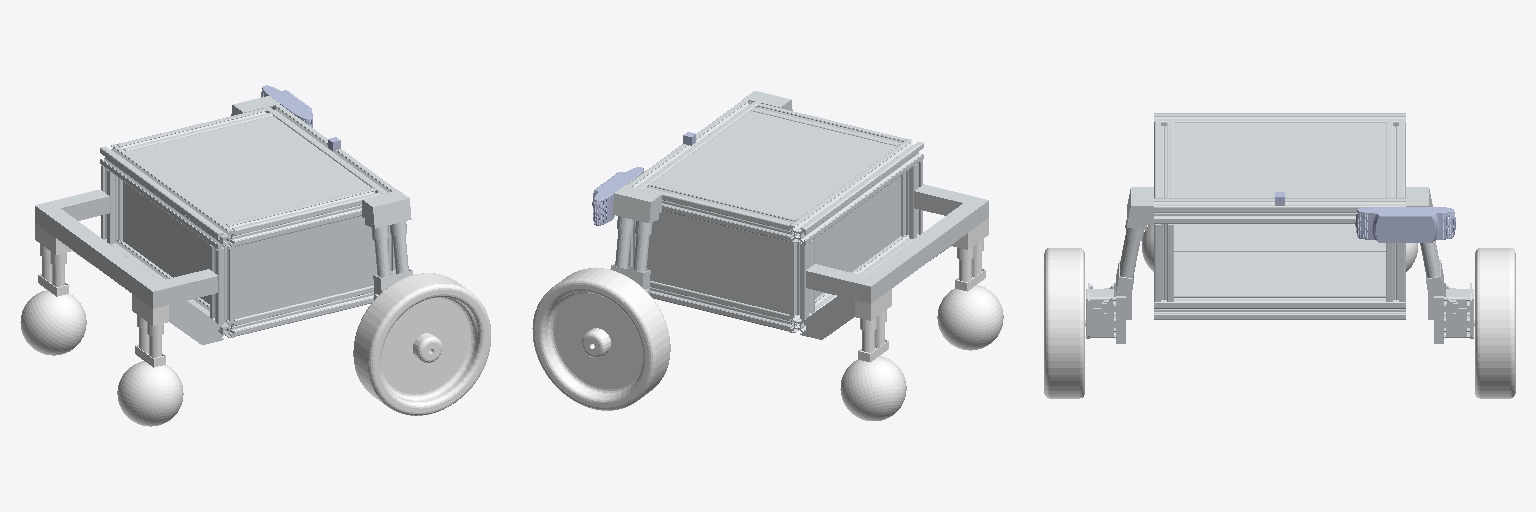
--- What the picture shows (computed from the rendered views, not written in the file) ---
The picture shows the robot from 3 angles, left to right: view 1: azimuth 30°, elevation 25°; view 2: azimuth 150°, elevation 25°; view 3: azimuth 270°, elevation 25°; orthographic projection.
Robot: toy_car2 — 17 links, 16 joints (2 continuous, 4 prismatic, 10 fixed); root link base_link; default pose: all joints at 0.
Visible links, largest first — view 1: base_link, front_right_wheel, rear_left_suspension, rear_right_suspension, front_right, front_right_suspension, rear_right, cam_left, rear_left; view 2: base_link, front_left_wheel, rear_right_suspension, rear_left_suspension, front_left, front_left_suspension, cam_left, rear_left, rear_right; view 3: base_link, front_left_wheel, front_right_wheel, cam_left, front_right_suspension, front_left_suspension, front_right.
Link boxes in pixels (left/top/right/bottom): base_link: left=35, top=104, right=397, bottom=344; front_right_wheel: left=353, top=273, right=490, bottom=415; rear_left_suspension: left=20, top=257, right=86, bottom=355; rear_right_suspension: left=117, top=328, right=183, bottom=426; front_right: left=362, top=190, right=411, bottom=240; front_right_suspension: left=373, top=235, right=413, bottom=299; rear_right: left=132, top=294, right=168, bottom=336; cam_left: left=261, top=85, right=312, bottom=127; rear_left: left=35, top=223, right=71, bottom=265; base_link: left=627, top=99, right=988, bottom=339; front_left_wheel: left=532, top=268, right=670, bottom=410; rear_right_suspension: left=937, top=252, right=1003, bottom=350; rear_left_suspension: left=840, top=323, right=906, bottom=420; front_left: left=612, top=185, right=661, bottom=234; front_left_suspension: left=610, top=229, right=650, bottom=294; cam_left: left=592, top=167, right=643, bottom=225; rear_left: left=855, top=289, right=891, bottom=331; rear_right: left=952, top=218, right=988, bottom=260; base_link: left=1154, top=113, right=1405, bottom=319; front_left_wheel: left=1475, top=248, right=1515, bottom=398; front_right_wheel: left=1044, top=248, right=1084, bottom=398; cam_left: left=1355, top=207, right=1455, bottom=242; front_right_suspension: left=1085, top=237, right=1139, bottom=343; front_left_suspension: left=1420, top=240, right=1474, bottom=343; front_right: left=1125, top=187, right=1153, bottom=241.
Bounding box of the posed robot: 0.3774 × 0.4684 × 0.2236 m (x, y, z).
Meshes: 17 distinct files referenced, 13 mesh visuals loaded (13 binary STL); not drawn: 4 (reference not matched to a file when rendering).

URDF robot description (toy_car2):
<?xml version="1.0" encoding="utf-8"?>
<!-- This URDF was automatically created by SolidWorks to URDF Exporter! Originally created by Stephen Brawner ([email redacted]) 
     Commit Version:   Build Version: 1.5.7444.6699
     For more information, please see http://wiki.ros.org/sw_urdf_exporter -->
<robot
  name="toy_car2">
  <link
    name="base_link">
    <inertial>
      <origin
        xyz="-0.0429725676225381 -0.000267178599244661 0.0471298420442132"
        rpy="0 0 0" />
      <mass
        value="3.81368362259093" />
      <inertia
        ixx="0.0114922800341374"
        ixy="1.2059249165165E-06"
        ixz="-1.88827417940258E-05"
        iyy="0.0038360950287992"
        iyz="2.87540667009997E-07"
        izz="0.0146500038054547" />
    </inertial>
    <visual>
      <origin
        xyz="0 0 0"
        rpy="0 0 0" />
      <geometry>
        <mesh
          filename="package://toy_car/meshes/base_link.STL" />
      </geometry>
      <material
        name="">
        <color
          rgba="0.898039215686275 0.917647058823529 0.929411764705882 1" />
      </material>
    </visual>
    <collision>
      <origin
        xyz="0 0 0"
        rpy="0 0 0" />
      <geometry>
        <mesh
          filename="package://toy_car/meshes/base_link.STL" />
      </geometry>
    </collision>
  </link>
  <link
    name="front_left">
    <inertial>
      <origin
        xyz="-2.42861286636753E-17 0.0153267239617477 -0.00621293030951706"
        rpy="0 0 0" />
      <mass
        value="0.0211105794692306" />
      <inertia
        ixx="2.45369235482972E-06"
        ixy="-2.07990699631126E-21"
        ixz="3.78132321519841E-21"
        iyy="6.08127961989931E-06"
        iyz="3.66094605714796E-08"
        izz="6.08949128777742E-06" />
    </inertial>
    <visual>
      <origin
        xyz="0 0 0"
        rpy="0 0 0" />
      <geometry>
        <mesh
          filename="package://toy_car/meshes/front_left.STL" />
      </geometry>
      <material
        name="">
        <color
          rgba="0.898039215686275 0.917647058823529 0.929411764705882 1" />
      </material>
    </visual>
    <collision>
      <origin
        xyz="0 0 0"
        rpy="0 0 0" />
      <geometry>
        <mesh
          filename="package://toy_car/meshes/front_left.STL" />
      </geometry>
    </collision>
  </link>
  <joint
    name="front_left_joint"
    type="fixed">
    <origin
      xyz="-0.021 0.125 0.11499737041193"
      rpy="0 0 0" />
    <parent
      link="base_link" />
    <child
      link="front_left" />
    <axis
      xyz="0 0 0" />
  </joint>
  <link
    name="front_left_suspension">
    <inertial>
      <origin
        xyz="1.41212986311881E-05 0.0045607206245718 -0.0195885393740494"
        rpy="0 0 0" />
      <mass
        value="0.108487939485068" />
      <inertia
        ixx="2.53331074755856E-05"
        ixy="-1.61707386962674E-08"
        ixz="-5.78964187854019E-10"
        iyy="2.81997784693636E-05"
        iyz="-6.30799035396079E-07"
        izz="1.37874536494029E-05" />
    </inertial>
    <visual>
      <origin
        xyz="0 0 0"
        rpy="0 0 0" />
      <geometry>
        <mesh
          filename="package://toy_car/meshes/front_left_suspension.STL" />
      </geometry>
      <material
        name="">
        <color
          rgba="0.898039215686275 0.917647058823529 0.929411764705882 1" />
      </material>
    </visual>
    <collision>
      <origin
        xyz="0 0 0"
        rpy="0 0 0" />
      <geometry>
        <mesh
          filename="package://toy_car/meshes/front_left_suspension.STL" />
      </geometry>
    </collision>
  </link>
  <joint
    name="front_left_suspension_joint"
    type="prismatic">
    <origin
      xyz="0 0.0273428886495924 -0.07"
      rpy="0.17453292519943 0 0" />
    <parent
      link="front_left" />
    <child
      link="front_left_suspension" />
    <axis
      xyz="0 0 -1" />
    <limit
      lower="-0.03"
      upper="0.03"
      effort="1000"
      velocity="1000" />
    <dynamics
      damping="0"
      friction="0" />
  </joint>
  <link
    name="front_left_wheel">
    <inertial>
      <origin
        xyz="-2.08166817117217E-17 0.02 2.77555756156289E-17"
        rpy="0 0 0" />
      <mass
        value="0.389004584885854" />
      <inertia
        ixx="0.000724516969122224"
        ixy="-2.13604799360613E-19"
        ixz="5.42655297253163E-20"
        iyy="0.00137769204419062"
        iyz="2.53222282423438E-18"
        izz="0.000724516969122224" />
    </inertial>
    <visual>
      <origin
        xyz="0 0 0"
        rpy="0 0 0" />
      <geometry>
        <mesh
          filename="package://toy_car/meshes/front_left_wheel.STL" />
      </geometry>
      <material
        name="">
        <color
          rgba="1 1 1 1" />
      </material>
    </visual>
    <collision>
      <origin
        xyz="0 0 0"
        rpy="0 0 0" />
      <geometry>
        <mesh
          filename="package://toy_car/meshes/front_left_wheel.STL" />
      </geometry>
    </collision>
  </link>
  <joint
    name="front_left_wheel_joint"
    type="continuous">
    <origin
      xyz="1.12457305640069E-05 0.0310624201259151 -0.0649811422108027"
      rpy="-0.17453292519943 0 0" />
    <parent
      link="front_left_suspension" />
    <child
      link="front_left_wheel" />
    <axis
      xyz="0 1 0" />
    <limit
      effort="3.1"
      velocity="7" />
  </joint>
  <link
    name="front_right">
    <inertial>
      <origin
        xyz="3.29597460435593E-17 -0.0153267239617477 -0.00621293030951707"
        rpy="0 0 0" />
      <mass
        value="0.0211105794692306" />
      <inertia
        ixx="2.45369235482973E-06"
        ixy="6.71998739664856E-22"
        ixz="2.48729805711132E-21"
        iyy="6.08127961989933E-06"
        iyz="-3.6609460571481E-08"
        izz="6.08949128777743E-06" />
    </inertial>
    <visual>
      <origin
        xyz="0 0 0"
        rpy="0 0 0" />
      <geometry>
        <mesh
          filename="package://toy_car/meshes/front_right.STL" />
      </geometry>
      <material
        name="">
        <color
          rgba="0.898039215686275 0.917647058823529 0.929411764705882 1" />
      </material>
    </visual>
    <collision>
      <origin
        xyz="0 0 0"
        rpy="0 0 0" />
      <geometry>
        <mesh
          filename="package://toy_car/meshes/front_right.STL" />
      </geometry>
    </collision>
  </link>
  <joint
    name="front_right_joint"
    type="fixed">
    <origin
      xyz="-0.0210000000000001 -0.125 0.11499737041193"
      rpy="0 0 0" />
    <parent
      link="base_link" />
    <child
      link="front_right" />
    <axis
      xyz="0 0 0" />
  </joint>
  <link
    name="front_right_suspension">
    <inertial>
      <origin
        xyz="-1.4121298631176E-05 -0.00456072062457182 -0.0195885393740494"
        rpy="0 0 0" />
      <mass
        value="0.108487939485068" />
      <inertia
        ixx="2.53331074755856E-05"
        ixy="-1.61707386962753E-08"
        ixz="5.78964187846857E-10"
        iyy="2.81997784693636E-05"
        iyz="6.30799035396077E-07"
        izz="1.37874536494029E-05" />
    </inertial>
    <visual>
      <origin
        xyz="0 0 0"
        rpy="0 0 0" />
      <geometry>
        <mesh
          filename="package://toy_car/meshes/front_right_suspension.STL" />
      </geometry>
      <material
        name="">
        <color
          rgba="0.898039215686275 0.917647058823529 0.929411764705882 1" />
      </material>
    </visual>
    <collision>
      <origin
        xyz="0 0 0"
        rpy="0 0 0" />
      <geometry>
        <mesh
          filename="package://toy_car/meshes/front_right_suspension.STL" />
      </geometry>
    </collision>
  </link>
  <joint
    name="front_right_suspension_joint"
    type="prismatic">
    <origin
      xyz="0 -0.0273428886495923 -0.07"
      rpy="-0.17453292519943 0 0" />
    <parent
      link="front_right" />
    <child
      link="front_right_suspension" />
    <axis
      xyz="0 0 -1" />
    <limit
      lower="-0.03"
      upper="0.03"
      effort="1000"
      velocity="1000" />
    <dynamics
      damping="0"
      friction="0" />
  </joint>
  <link
    name="front_right_wheel">
    <inertial>
      <origin
        xyz="3.46944695195361E-18 -0.02 -6.93889390390723E-17"
        rpy="0 0 0" />
      <mass
        value="0.389004584885853" />
      <inertia
        ixx="0.000724516969122223"
        ixy="-2.0869319940662E-19"
        ixz="6.07790807408048E-21"
        iyy="0.00137769204419062"
        iyz="2.54100205603488E-18"
        izz="0.000724516969122223" />
    </inertial>
    <visual>
      <origin
        xyz="0 0 0"
        rpy="0 0 0" />
      <geometry>
        <mesh
          filename="package://toy_car/meshes/front_right_wheel.STL" />
      </geometry>
      <material
        name="">
        <color
          rgba="1 1 1 1" />
      </material>
    </visual>
    <collision>
      <origin
        xyz="0 0 0"
        rpy="0 0 0" />
      <geometry>
        <mesh
          filename="package://toy_car/meshes/front_right_wheel.STL" />
      </geometry>
    </collision>
  </link>
  <joint
    name="front_right_wheel_joint"
    type="continuous">
    <origin
      xyz="-1.1246E-05 -0.031062 -0.064981"
      rpy="0.17453 0 0" />
    <parent
      link="front_right_suspension" />
    <child
      link="front_right_wheel" />
    <axis
      xyz="0 1 0" />
    <limit
      effort="3.1"
      velocity="7" />
  </joint>
  <link
    name="rear_left">
    <inertial>
      <origin
        xyz="0 8.32667268468867E-17 -0.0153728572796044"
        rpy="0 0 0" />
      <mass
        value="0.00600385822447067" />
      <inertia
        ixx="1.44009513612279E-06"
        ixy="-6.21347011227668E-23"
        ixz="-3.38630138596155E-23"
        iyy="5.05998771239394E-07"
        iyz="-2.62489462342665E-22"
        izz="1.54583669239748E-06" />
    </inertial>
    <visual>
      <origin
        xyz="0 0 0"
        rpy="0 0 0" />
      <geometry>
        <mesh
          filename="package://toy_car/meshes/rear_left.STL" />
      </geometry>
      <material
        name="">
        <color
          rgba="1 1 1 1" />
      </material>
    </visual>
    <collision>
      <origin
        xyz="0 0 0"
        rpy="0 0 0" />
      <geometry>
        <mesh
          filename="package://toy_car/meshes/rear_left.STL" />
      </geometry>
    </collision>
  </link>
  <joint
    name="rear_left_joint"
    type="fixed">
    <origin
      xyz="-0.288495633593833 0.1025 0.0564000000000001"
      rpy="0 0 0" />
    <parent
      link="base_link" />
    <child
      link="rear_left" />
    <axis
      xyz="0 0 0" />
  </joint>
  <link
    name="rear_left_suspension">
    <inertial>
      <origin
        xyz="0 5.55111512312578E-17 -0.0393577295170233"
        rpy="0 0 0" />
      <mass
        value="0.0815242305195134" />
      <inertia
        ixx="5.03457524758413E-05"
        ixy="-2.73343613870472E-22"
        ixz="-2.69939333546856E-21"
        iyy="5.01112983622256E-05"
        iyz="2.51620724300096E-21"
        izz="4.8856497869962E-05" />
    </inertial>
    <visual>
      <origin
        xyz="0 0 0"
        rpy="0 0 0" />
      <geometry>
        <mesh
          filename="package://toy_car/meshes/rear_left_suspension.STL" />
      </geometry>
      <material
        name="">
        <color
          rgba="1 1 1 1" />
      </material>
    </visual>
    <collision>
      <origin
        xyz="0 0 0"
        rpy="0 0 0" />
      <geometry>
        <mesh
          filename="package://toy_car/meshes/rear_left_suspension.STL" />
      </geometry>
    </collision>
  </link>
  <joint
    name="rear_left_suspension_joint"
    type="prismatic">
    <origin
      xyz="0 0 -0.06"
      rpy="0 0 0" />
    <parent
      link="rear_left" />
    <child
      link="rear_left_suspension" />
    <axis
      xyz="0 0 -1" />
    <limit
      lower="-0.02"
      upper="0.02"
      effort="1000"
      velocity="1000" />
    <dynamics
      damping="0"
      friction="0" />
  </joint>
  <link
    name="rear_right">
    <inertial>
      <origin
        xyz="0 -5.20417042793042E-18 -0.0153728572796044"
        rpy="0 0 0" />
      <mass
        value="0.00600385822447067" />
      <inertia
        ixx="1.4400951361228E-06"
        ixy="1.56504335592465E-22"
        ixz="-4.39618613232038E-23"
        iyy="5.05998771239394E-07"
        iyz="-7.69360318009659E-23"
        izz="1.54583669239748E-06" />
    </inertial>
    <visual>
      <origin
        xyz="0 0 0"
        rpy="0 0 0" />
      <geometry>
        <mesh
          filename="package://toy_car/meshes/rear_right.STL" />
      </geometry>
      <material
        name="">
        <color
          rgba="1 1 1 1" />
      </material>
    </visual>
    <collision>
      <origin
        xyz="0 0 0"
        rpy="0 0 0" />
      <geometry>
        <mesh
          filename="package://toy_car/meshes/rear_right.STL" />
      </geometry>
    </collision>
  </link>
  <joint
    name="rear_right"
    type="fixed">
    <origin
      xyz="-0.288495633593834 -0.1025 0.0564000000000001"
      rpy="0 0 0" />
    <parent
      link="base_link" />
    <child
      link="rear_right" />
    <axis
      xyz="0 0 0" />
  </joint>
  <link
    name="rear_right_suspension">
    <inertial>
      <origin
        xyz="0 -1.04083408558608E-17 -0.0393577295170232"
        rpy="0 0 0" />
      <mass
        value="0.0815242305195134" />
      <inertia
        ixx="5.03457524758413E-05"
        ixy="-7.45258625197246E-23"
        ixz="9.46617793312654E-23"
        iyy="5.01112983622256E-05"
        iyz="-1.4837703661536E-22"
        izz="4.8856497869962E-05" />
    </inertial>
    <visual>
      <origin
        xyz="0 0 0"
        rpy="0 0 0" />
      <geometry>
        <mesh
          filename="package://toy_car/meshes/rear_right_suspension.STL" />
      </geometry>
      <material
        name="">
        <color
          rgba="1 1 1 1" />
      </material>
    </visual>
    <collision>
      <origin
        xyz="0 0 0"
        rpy="0 0 0" />
      <geometry>
        <mesh
          filename="package://toy_car/meshes/rear_right_suspension.STL" />
      </geometry>
    </collision>
  </link>
  <joint
    name="rear_right_suspension_joint"
    type="prismatic">
    <origin
      xyz="0 0 -0.06"
      rpy="0 0 0" />
    <parent
      link="rear_right" />
    <child
      link="rear_right_suspension" />
    <axis
      xyz="0 0 -1" />
    <limit
      lower="-0.02"
      upper="0.02"
      effort="1000"
      velocity="1000" />
  </joint>
  <link
    name="cam_left">
    <inertial>
      <origin
        xyz="-0.0120544749097688 -2.64371644598249E-06 0.00129029482254094"
        rpy="0 0 0" />
      <mass
        value="0.0436119950287128" />
      <inertia
        ixx="2.357070580464E-05"
        ixy="-1.01813691700999E-09"
        ixz="2.17579681215313E-08"
        iyy="4.29479133591159E-06"
        iyz="-8.85791113982287E-10"
        izz="2.21058141232449E-05" />
    </inertial>
    <visual>
      <origin
        xyz="0 0 0"
        rpy="0 0 0" />
      <geometry>
        <mesh
          filename="package://toy_car/meshes/cam_left.STL" />
      </geometry>
      <material
        name="">
        <color
          rgba="0.792156862745098 0.819607843137255 0.933333333333333 1" />
      </material>
    </visual>
    <collision>
      <origin
        xyz="0 0 0"
        rpy="0 0 0" />
      <geometry>
        <mesh
          filename="package://toy_car/meshes/cam_left.STL" />
      </geometry>
    </collision>
  </link>
  <joint
    name="cam_left_joint"
    type="fixed">
    <origin
      xyz="0.0245 0.125 0.11"
      rpy="0 0 0" />
    <parent
      link="base_link" />
    <child
      link="cam_left" />
    <axis
      xyz="0 0 0" />
  </joint>
  <link
    name="cam_center">
    <inertial>
      <origin
        xyz="-0.0120544747058804 -2.64441767712509E-06 0.00129029282470135"
        rpy="0 0 0" />
      <mass
        value="0.0436119958195422" />
      <inertia
        ixx="2.3570706297655E-05"
        ixy="-1.01838561350546E-09"
        ixz="2.17586651355488E-08"
        iyy="4.29479058709873E-06"
        iyz="-8.85031082188919E-10"
        izz="2.21058153779503E-05" />
    </inertial>
    <visual>
      <origin
        xyz="0 0 0"
        rpy="0 0 0" />
      <geometry>
        <mesh
          filename="package://toy_car/meshes/cam_center.STL" />
      </geometry>
      <material
        name="">
        <color
          rgba="0.792156862745098 0.819607843137255 0.933333333333333 1" />
      </material>
    </visual>
    <collision>
      <origin
        xyz="0 0 0"
        rpy="0 0 0" />
      <geometry>
        <mesh
          filename="package://toy_car/meshes/cam_center.STL" />
      </geometry>
    </collision>
  </link>
  <joint
    name="cam_center_joint"
    type="fixed">
    <origin
      xyz="0.065337 0 0.1132"
      rpy="0 0.2012 0" />
    <parent
      link="base_link" />
    <child
      link="cam_center" />
    <axis
      xyz="0 0 0" />
  </joint>
  <link
    name="cam_right">
    <inertial>
      <origin
        xyz="-0.0120544749097688 -2.64371644610219E-06 0.00129029482254099"
        rpy="0 0 0" />
      <mass
        value="0.0436119950287128" />
      <inertia
        ixx="2.357070580464E-05"
        ixy="-1.0181369170115E-09"
        ixz="2.17579681215311E-08"
        iyy="4.29479133591163E-06"
        iyz="-8.85791114096477E-10"
        izz="2.21058141232449E-05" />
    </inertial>
    <visual>
      <origin
        xyz="0 0 0"
        rpy="0 0 0" />
      <geometry>
        <mesh
          filename="package://toy_car/meshes/cam_right.STL" />
      </geometry>
      <material
        name="">
        <color
          rgba="0.792156862745098 0.819607843137255 0.933333333333333 1" />
      </material>
    </visual>
    <collision>
      <origin
        xyz="0 0 0"
        rpy="0 0 0" />
      <geometry>
        <mesh
          filename="package://toy_car/meshes/cam_right.STL" />
      </geometry>
    </collision>
  </link>
  <joint
    name="cam_right_joint"
    type="fixed">
    <origin
      xyz="0.0245 -0.125 0.10999737041193"
      rpy="0 0 0" />
    <parent
      link="base_link" />
    <child
      link="cam_right" />
    <axis
      xyz="0 0 0" />
  </joint>
  <link
    name="lidar">
    <inertial>
      <origin
        xyz="-0.0120499098018976 0.000527659667923397 -0.0287648857892997"
        rpy="0 0 0" />
      <mass
        value="0.0730845703017379" />
      <inertia
        ixx="1.95808756632736E-05"
        ixy="-1.03933589330764E-07"
        ixz="4.28391188454363E-07"
        iyy="2.41250078188066E-05"
        iyz="-9.42709177675029E-09"
        izz="4.14184514527587E-05" />
    </inertial>
    <visual>
      <origin
        xyz="0 0 0"
        rpy="0 0 0" />
      <geometry>
        <mesh
          filename="package://toy_car/meshes/lidar.STL" />
      </geometry>
      <material
        name="">
        <color
          rgba="0.792156862745098 0.819607843137255 0.933333333333333 1" />
      </material>
    </visual>
    <collision>
      <origin
        xyz="0 0 0"
        rpy="0 0 0" />
      <geometry>
        <mesh
          filename="package://toy_car/meshes/lidar.STL" />
      </geometry>
    </collision>
  </link>
  <joint
    name="lidar_joint"
    type="fixed">
    <origin
      xyz="-0.085232 0 0.177"
      rpy="0 0 0" />
    <parent
      link="base_link" />
    <child
      link="lidar" />
    <axis
      xyz="0 0 0" />
  </joint>
  <link
    name="imu">
    <inertial>
      <origin
        xyz="8.67361737988404E-19 -2.77555756156289E-17 -0.00499999999999999"
        rpy="0 0 0" />
      <mass
        value="0.000999999999999999" />
      <inertia
        ixx="1.66666666666666E-08"
        ixy="2.24876659584175E-24"
        ixz="5.51453741702021E-25"
        iyy="1.66666666666666E-08"
        iyz="-3.53318618123475E-25"
        izz="1.66666666666666E-08" />
    </inertial>
    <visual>
      <origin
        xyz="0 0 0"
        rpy="0 0 0" />
      <geometry>
        <mesh
          filename="package://toy_car/meshes/imu.STL" />
      </geometry>
      <material
        name="">
        <color
          rgba="0.792156862745098 0.819607843137255 0.933333333333333 1" />
      </material>
    </visual>
    <collision>
      <origin
        xyz="0 0 0"
        rpy="0 0 0" />
      <geometry>
        <mesh
          filename="package://toy_car/meshes/imu.STL" />
      </geometry>
    </collision>
  </link>
  <joint
    name="imu_joint"
    type="fixed">
    <origin
      xyz="-0.00499999999999977 0 0.13499737041193"
      rpy="0 0 0" />
    <parent
      link="base_link" />
    <child
      link="imu" />
    <axis
      xyz="0 0 0" />
  </joint>
  <link
    name="dummy">
    <inertial>
      <origin
        xyz="8.6736E-19 -2.7756E-17 -0.005"
        rpy="0 0 0" />
      <mass
        value="0.001" />
      <inertia
        ixx="1.6667E-08"
        ixy="2.2488E-24"
        ixz="5.5145E-25"
        iyy="1.6667E-08"
        iyz="-3.5332E-25"
        izz="1.6667E-08" />
    </inertial>
    <visual>
      <origin
        xyz="0 0 0"
        rpy="0 0 0" />
      <geometry>
        <mesh
          filename="package://toy_car/meshes/dummy.STL" />
      </geometry>
      <material
        name="">
        <color
          rgba="0.79216 0.81961 0.93333 1" />
      </material>
    </visual>
    <collision>
      <origin
        xyz="0 0 0"
        rpy="0 0 0" />
      <geometry>
        <mesh
          filename="package://toy_car/meshes/dummy.STL" />
      </geometry>
    </collision>
  </link>
  <joint
    name="dummy_joint"
    type="fixed">
    <origin
      xyz="-0.005 0 0.135"
      rpy="0 0 0" />
    <parent
      link="base_link" />
    <child
      link="dummy" />
    <axis
      xyz="0 0 0" />
  </joint>


  <transmission name="tran_left_wheel">
    <type>transmission_interface/SimpleTransmission</type>
    <joint name="front_left_wheel_joint">
      <hardwareInterface>VelocityJointInterface</hardwareInterface>
    </joint>
    <actuator name="motor1">
      <hardwareInterface>VelocityJointInterface</hardwareInterface>
      <mechanicalReduction>1</mechanicalReduction>
    </actuator>
  </transmission>

  <transmission name="tran_right_wheel">
    <type>transmission_interface/SimpleTransmission</type>
    <joint name="front_right_wheel_joint">
      <hardwareInterface>VelocityJointInterface</hardwareInterface>
    </joint>
    <actuator name="motor2">
      <hardwareInterface>VelocityJointInterface</hardwareInterface>
      <mechanicalReduction>1</mechanicalReduction>
    </actuator>
  </transmission>

  <transmission name="tran_front_left_sus">
    <type>transmission_interface/SimpleTransmission</type>
    <joint name="front_left_suspension_joint">
      <hardwareInterface>hardware_interface/EffortJointInterface</hardwareInterface>
    </joint>
    <actuator name="motor_sus1">
      <hardwareInterface>hardware_interface/EffortJointInterface</hardwareInterface>
      <mechanicalReduction>1</mechanicalReduction>
    </actuator>
  </transmission>

  <transmission name="tran_front_right_sus">
    <type>transmission_interface/SimpleTransmission</type>
    <joint name="front_right_suspension_joint">
      <hardwareInterface>hardware_interface/EffortJointInterface</hardwareInterface>
    </joint>
    <actuator name="motor_sus2">
      <hardwareInterface>hardware_interface/EffortJointInterface</hardwareInterface>
      <mechanicalReduction>1</mechanicalReduction>
    </actuator>
  </transmission>

  <transmission name="tran_rear_left_sus">
    <type>transmission_interface/SimpleTransmission</type>
    <joint name="rear_left_suspension_joint">
      <hardwareInterface>hardware_interface/EffortJointInterface</hardwareInterface>
    </joint>
    <actuator name="motor_sus3">
      <hardwareInterface>hardware_interface/EffortJointInterface</hardwareInterface>
      <mechanicalReduction>1</mechanicalReduction>
    </actuator>
  </transmission>

  <transmission name="tran_rear_right_sus">
    <type>transmission_interface/SimpleTransmission</type>
    <joint name="rear_right_suspension_joint">
      <hardwareInterface>hardware_interface/EffortJointInterface</hardwareInterface>
    </joint>
    <actuator name="motor_sus4">
      <hardwareInterface>hardware_interface/EffortJointInterface</hardwareInterface>
      <mechanicalReduction>1</mechanicalReduction>
    </actuator>
  </transmission>

  <gazebo reference="rear_right_suspension">
    <mu1>0.0001</mu1>
    <mu2>0.0001</mu2>
  </gazebo>

  <gazebo reference="rear_left_suspension">
    <mu1>0.0001</mu1>
    <mu2>0.0001</mu2>
  </gazebo>


  <gazebo reference="front_left_wheel">
    <mu1>1</mu1>
    <mu2>1</mu2>
  </gazebo>

  <gazebo reference="front_left_wheel">
    <mu1>1</mu1>
    <mu2>1</mu2>
  </gazebo>

  <gazebo>
    <plugin name="gazebo_ros_control" filename="libgazebo_ros_control.so">
      <robotNamespace>/toy_car2</robotNamespace>
    </plugin>
  </gazebo>

 <gazebo reference="lidar_top">
    <material>Gazebo/FlatBlack</material>
    <sensor type="ray" name="lds_lfcd_sensor">
      <pose>0 0 0 0 0 0</pose>
      <visualize>false</visualize>
      <update_rate>5</update_rate>
      <ray>
        <scan>
          <horizontal>
            <samples>360</samples>
            <resolution>1</resolution>
            <min_angle>0.0</min_angle>
            <max_angle>6.28319</max_angle>
          </horizontal>
        </scan>
        <range>
          <min>0.120</min>
          <max>3.5</max>
          <resolution>0.015</resolution>
        </range>
        <noise>
          <type>gaussian</type>
          <mean>0.0</mean>
          <stddev>0.01</stddev>
        </noise>
      </ray>
      <plugin name="gazebo_ros_lds_lfcd_controller" filename="libgazebo_ros_laser.so">
        <topicName>scan</topicName>
        <frameName>lidar_top</frameName>
      </plugin>
    </sensor>
  </gazebo>

<gazebo reference="camera_left">
    <sensor type="depth" name="realsense_R200">
      <always_on>true</always_on>
      <visualize>true</visualize>
      <camera>
          <horizontal_fov>1.3439</horizontal_fov>
          <image>
              <width>1920</width>
              <height>1080</height>
              <format>R8G8B8</format>
          </image>
          <depth_camera></depth_camera>
          <clip>
              <near>0.03</near>
              <far>100</far>
          </clip>
      </camera>
      <plugin name="camera_controller" filename="libgazebo_ros_openni_kinect.so">
        <baseline>0.2</baseline>
        <alwaysOn>true</alwaysOn>
        <updateRate>30.0</updateRate>
        <cameraName>camera_left</cameraName>
        <frameName>camera_rgb_optical_frame</frameName>
        <imageTopicName>rgb/image_raw</imageTopicName>
        <depthImageTopicName>depth/image_raw</depthImageTopicName>
        <pointCloudTopicName>depth/points</pointCloudTopicName>
        <cameraInfoTopicName>rgb/camera_info</cameraInfoTopicName>
        <depthImageCameraInfoTopicName>depth/camera_info</depthImageCameraInfoTopicName>
        <pointCloudCutoff>0.4</pointCloudCutoff>
            <hackBaseline>0.07</hackBaseline>
            <distortionK1>0.0</distortionK1>
            <distortionK2>0.0</distortionK2>
            <distortionK3>0.0</distortionK3>
            <distortionT1>0.0</distortionT1>
            <distortionT2>0.0</distortionT2>
        <CxPrime>0.0</CxPrime>
        <Cx>0.0</Cx>
        <Cy>0.0</Cy>
        <focalLength>0</focalLength>
        <hackBaseline>0</hackBaseline>
      </plugin>
    </sensor>
  </gazebo>

<gazebo reference="camera_center">
    <sensor type="depth" name="realsense_R200">
      <always_on>true</always_on>
      <visualize>true</visualize>
      <camera>
          <horizontal_fov>1.3439</horizontal_fov>
          <image>
              <width>1920</width>
              <height>1080</height>
              <format>R8G8B8</format>
          </image>
          <depth_camera></depth_camera>
          <clip>
              <near>0.03</near>
              <far>100</far>
          </clip>
      </camera>
      <plugin name="camera_controller" filename="libgazebo_ros_openni_kinect.so">
        <baseline>0.2</baseline>
        <alwaysOn>true</alwaysOn>
        <updateRate>30.0</updateRate>
        <cameraName>camera_center</cameraName>
        <frameName>camera_rgb_optical_frame</frameName>
        <imageTopicName>rgb/image_raw</imageTopicName>
        <depthImageTopicName>depth/image_raw</depthImageTopicName>
        <pointCloudTopicName>depth/points</pointCloudTopicName>
        <cameraInfoTopicName>rgb/camera_info</cameraInfoTopicName>
        <depthImageCameraInfoTopicName>depth/camera_info</depthImageCameraInfoTopicName>
        <pointCloudCutoff>0.4</pointCloudCutoff>
            <hackBaseline>0.07</hackBaseline>
            <distortionK1>0.0</distortionK1>
            <distortionK2>0.0</distortionK2>
            <distortionK3>0.0</distortionK3>
            <distortionT1>0.0</distortionT1>
            <distortionT2>0.0</distortionT2>
        <CxPrime>0.0</CxPrime>
        <Cx>0.0</Cx>
        <Cy>0.0</Cy>
        <focalLength>0</focalLength>
        <hackBaseline>0</hackBaseline>
      </plugin>
    </sensor>
  </gazebo>

<gazebo reference="camera_right">
    <sensor type="depth" name="realsense_R200">
      <always_on>true</always_on>
      <visualize>true</visualize>
      <camera>
          <horizontal_fov>1.3439</horizontal_fov>
          <image>
              <width>1920</width>
              <height>1080</height>
              <format>R8G8B8</format>
          </image>
          <depth_camera></depth_camera>
          <clip>
              <near>0.03</near>
              <far>100</far>
          </clip>
      </camera>
      <plugin name="camera_controller" filename="libgazebo_ros_openni_kinect.so">
        <baseline>0.2</baseline>
        <alwaysOn>true</alwaysOn>
        <updateRate>30.0</updateRate>
        <cameraName>camera_right</cameraName>
        <frameName>camera_rgb_optical_frame</frameName>
        <imageTopicName>rgb/image_raw</imageTopicName>
        <depthImageTopicName>depth/image_raw</depthImageTopicName>
        <pointCloudTopicName>depth/points</pointCloudTopicName>
        <cameraInfoTopicName>rgb/camera_info</cameraInfoTopicName>
        <depthImageCameraInfoTopicName>depth/camera_info</depthImageCameraInfoTopicName>
        <pointCloudCutoff>0.4</pointCloudCutoff>
            <hackBaseline>0.07</hackBaseline>
            <distortionK1>0.0</distortionK1>
            <distortionK2>0.0</distortionK2>
            <distortionK3>0.0</distortionK3>
            <distortionT1>0.0</distortionT1>
            <distortionT2>0.0</distortionT2>
        <CxPrime>0.0</CxPrime>
        <Cx>0.0</Cx>
        <Cy>0.0</Cy>
        <focalLength>0</focalLength>
        <hackBaseline>0</hackBaseline>
      </plugin>
    </sensor>
  </gazebo>




</robot>
